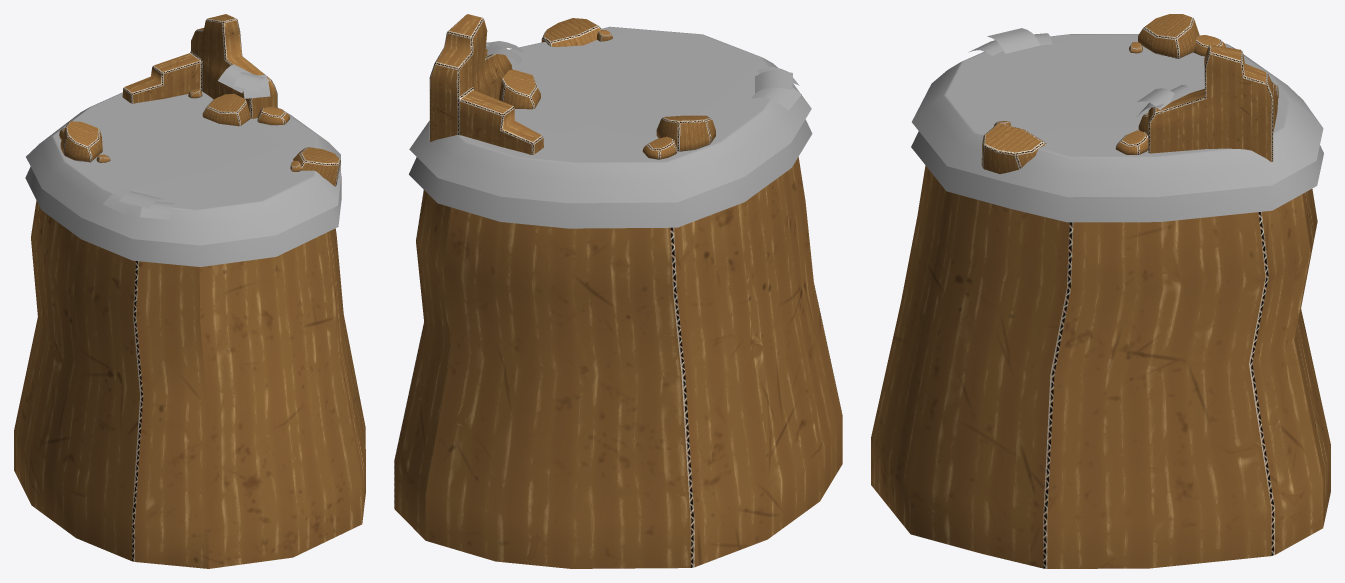
File: Test_NaturalStructure.fbx
The picture shows the model from 3 angles, left to right: view 1: azimuth 30°, elevation 25°; view 2: azimuth 150°, elevation 25°; view 3: azimuth 270°, elevation 25°; orthographic projection. The views are drawn at different scales.
Visible parts, largest first — view 1: CardboardBottom, GrassTop, GrassLayer, CardboardRuins, Stone_03, Stone_01, Stone_06, Stone_02, Grass; view 2: CardboardBottom, GrassTop, GrassLayer, CardboardRuins, Stone_03, Stone_01, Stone_06, Grass2, Grass1, Stone_04; view 3: CardboardBottom, GrassTop, GrassLayer, CardboardRuins, Stone_06, Stone_03, Grass2, Stone_02.
Part boxes in pixels (x1,y1,x2,y2): CardboardBottom: (14, 200, 365, 568); GrassTop: (26, 91, 341, 245); GrassLayer: (25, 166, 341, 266); CardboardRuins: (122, 14, 277, 118); Stone_03: (60, 121, 102, 162); Stone_01: (202, 93, 250, 126); Stone_06: (293, 147, 340, 186); Stone_02: (257, 106, 289, 125); Grass: (140, 201, 174, 219); CardboardBottom: (394, 157, 842, 568); GrassTop: (409, 26, 811, 203); GrassLayer: (409, 119, 812, 228); CardboardRuins: (429, 14, 543, 154); Stone_03: (656, 115, 715, 151); Stone_01: (499, 70, 540, 109); Stone_06: (541, 18, 601, 46); Grass2: (755, 70, 792, 93); Grass1: (751, 87, 801, 110); Stone_04: (642, 136, 677, 159); CardboardBottom: (871, 165, 1330, 568); GrassTop: (912, 34, 1323, 197); GrassLayer: (911, 131, 1323, 222); CardboardRuins: (1148, 45, 1278, 162); Stone_06: (981, 123, 1046, 173); Stone_03: (1138, 14, 1199, 58); Grass2: (987, 28, 1040, 53); Stone_02: (1115, 130, 1148, 154).
Size of the model in its own units: 11.68 by 15.88 by 13.69.
